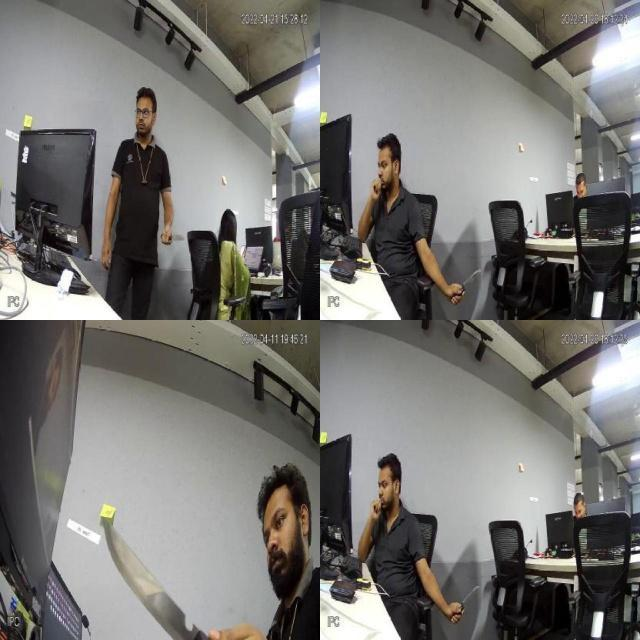-: (102, 511, 202, 639), (455, 585, 483, 618), (459, 265, 482, 304), (161, 220, 183, 253)
